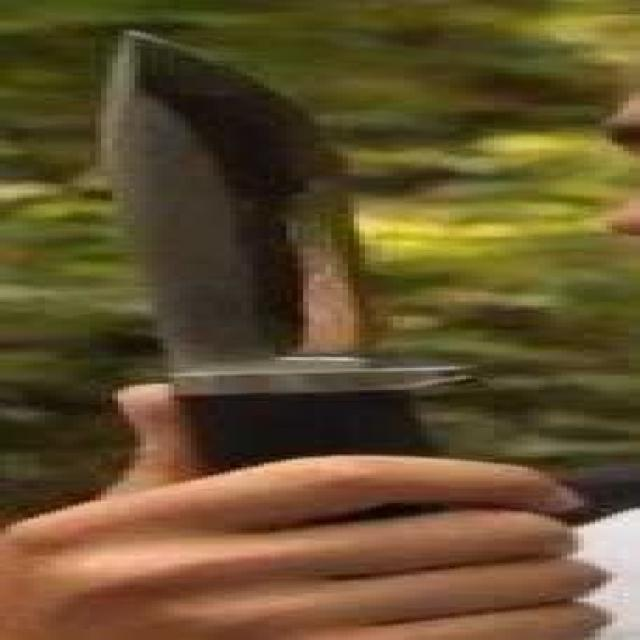weapon: (49, 15, 526, 624)
